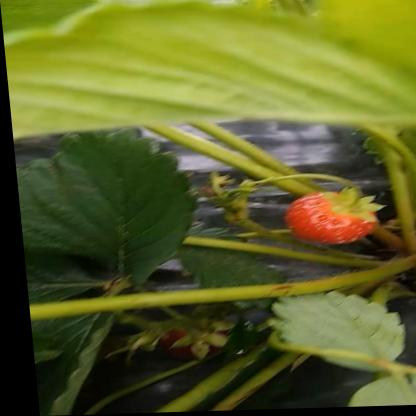ripe: (277, 191, 378, 250), (151, 310, 230, 365)
